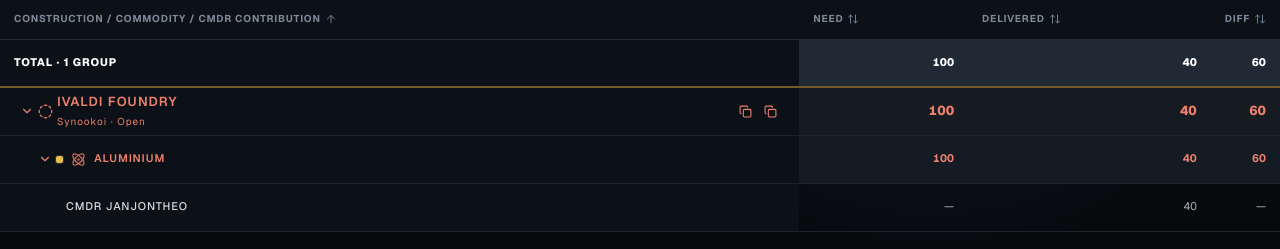
Colonisation grouped table › shows Commodity groups with collapsible Cmdr contributions
This screenshot has width=1280, height=249.
Expected: the column heading "Cmdr JanJonTheo" is shown, x1=0 y1=183 x2=799 y2=231
Click the button with aria-label "Collapse commodity Aluminium". click: coordinates (130, 158)
box: x1=38 y1=151 x2=785 y2=167
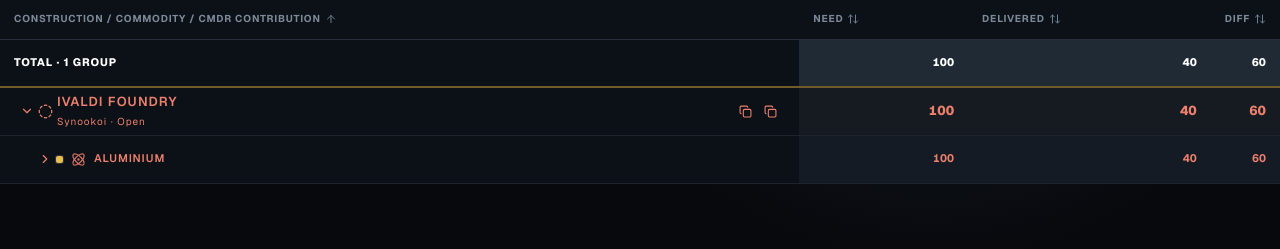
Now the button with aria-label "Expand commodity Aluminium" is collapsed, box x1=38 y1=151 x2=785 y2=167
Now the column heading "Cmdr JanJonTheo" is gone
